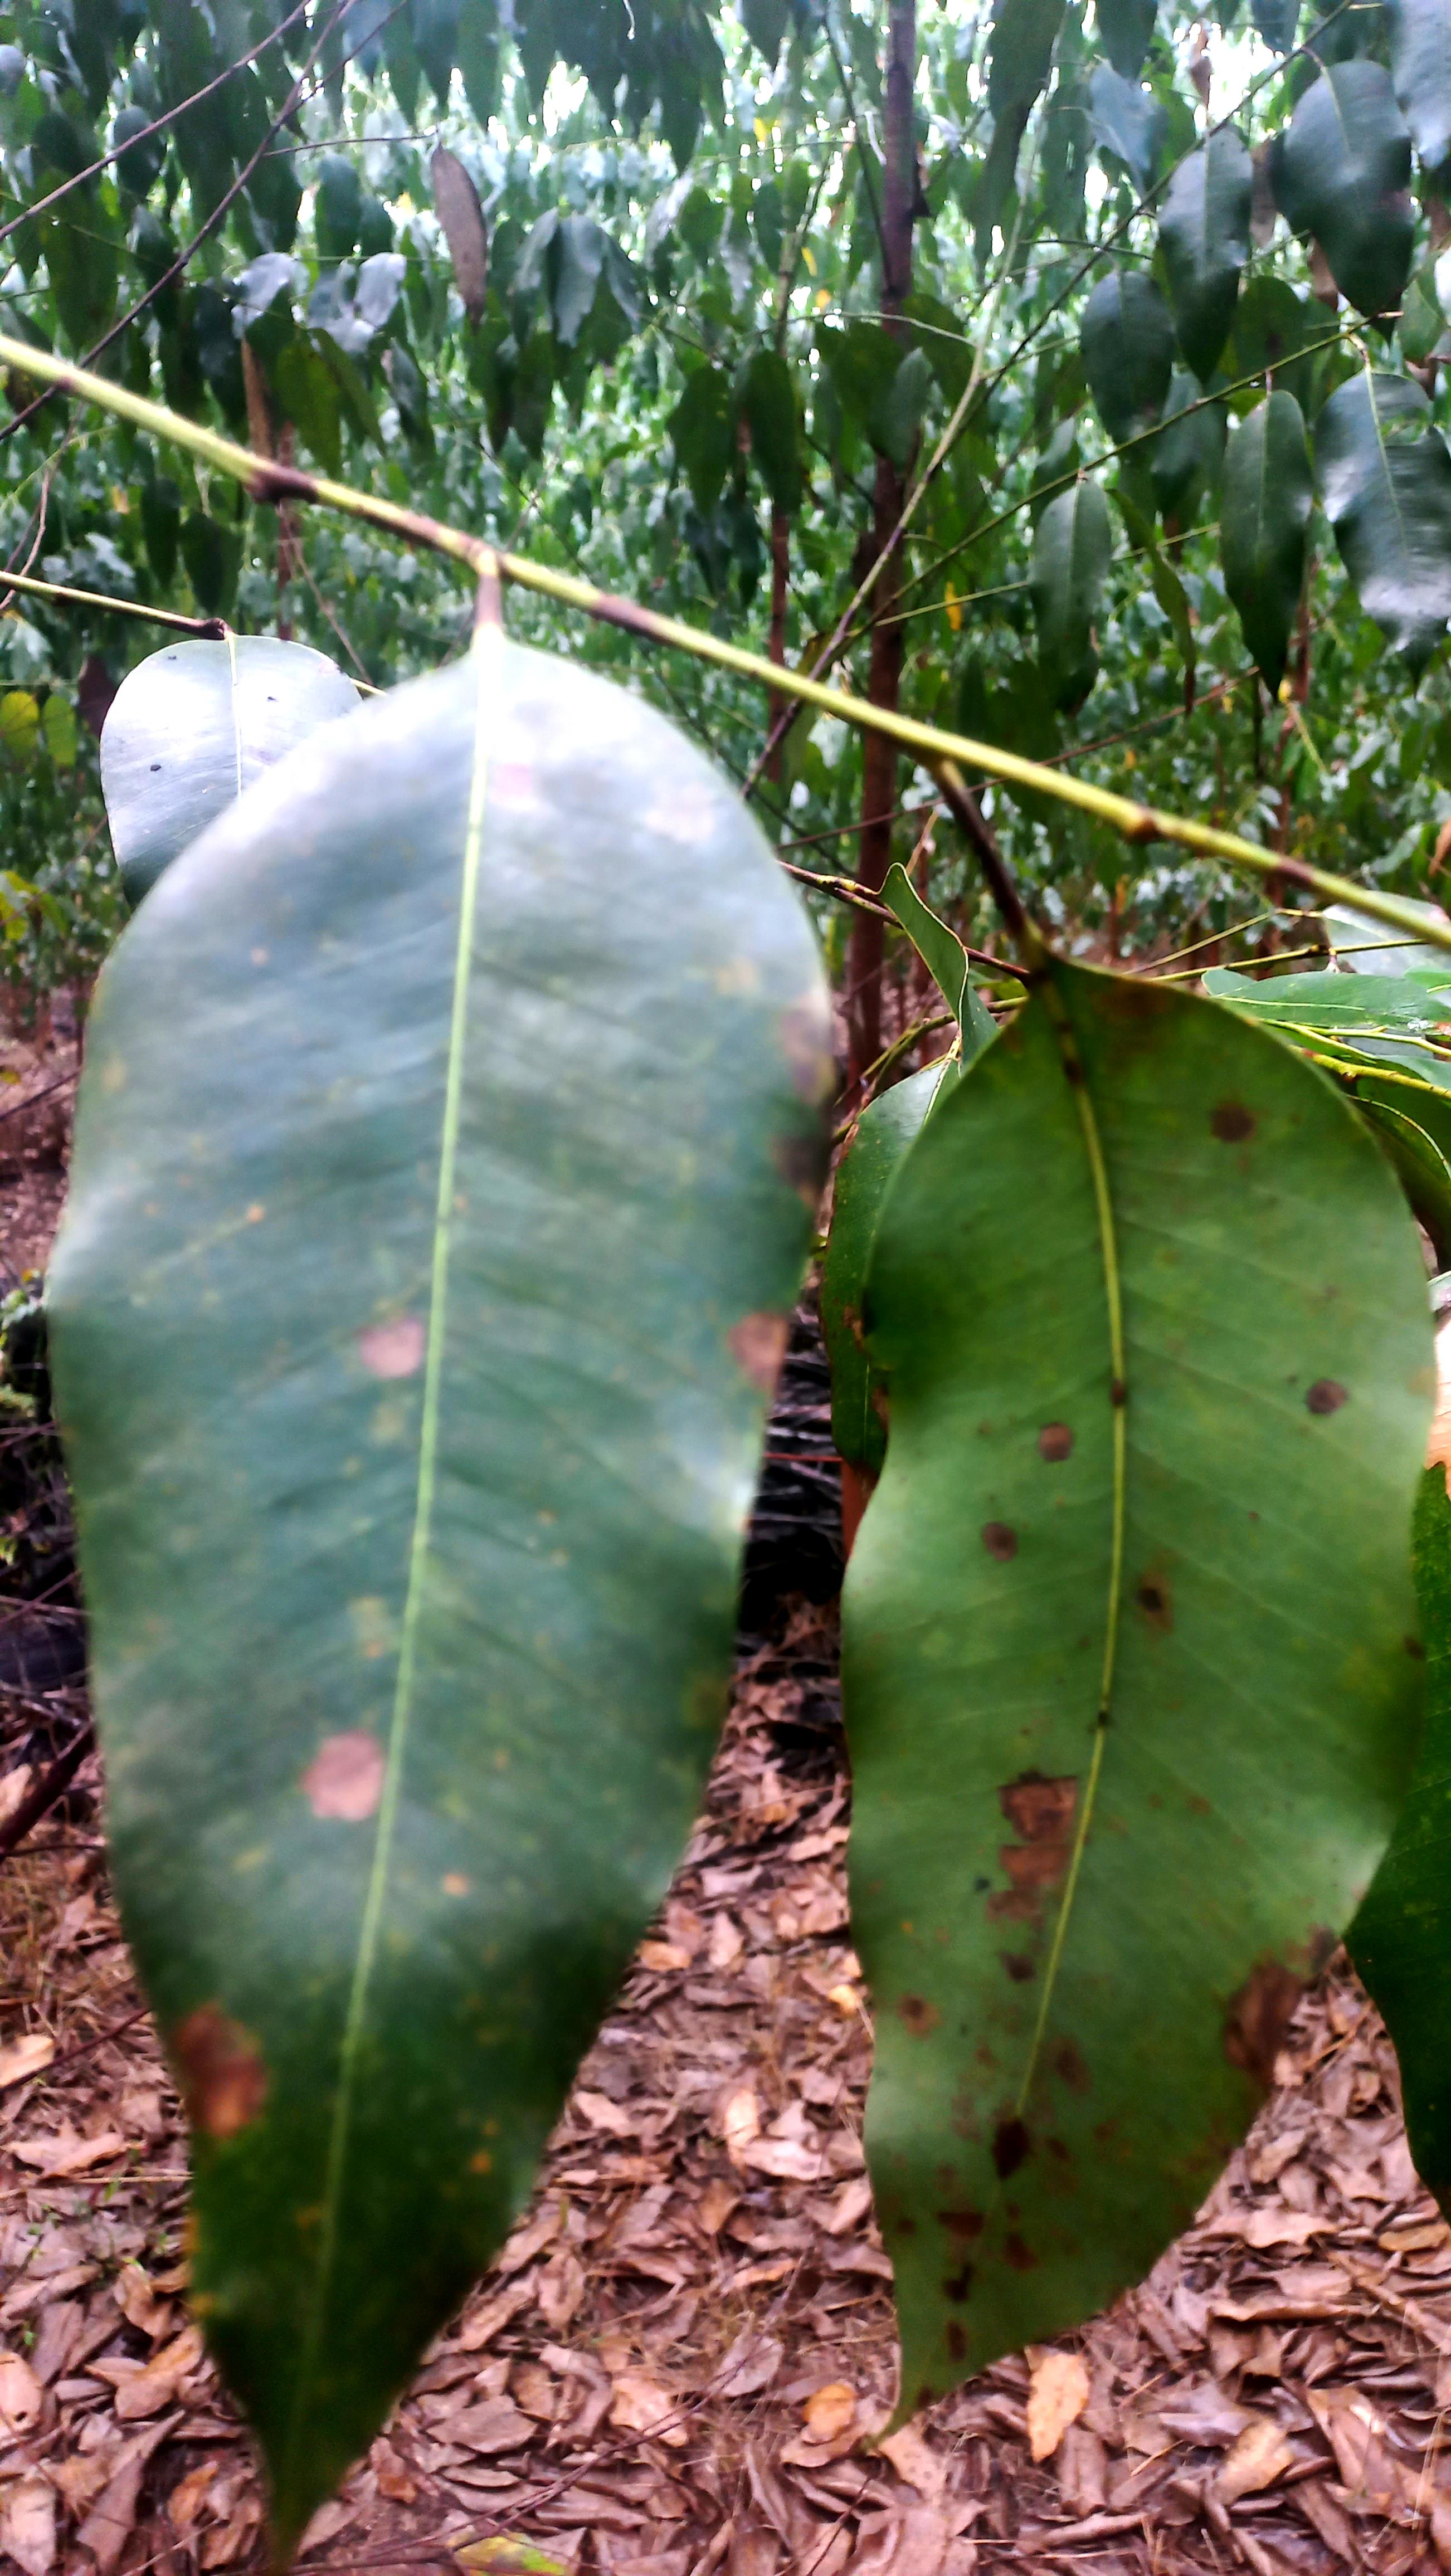Cylindrocladium: (101, 642, 818, 2567), (862, 993, 1439, 2406)
